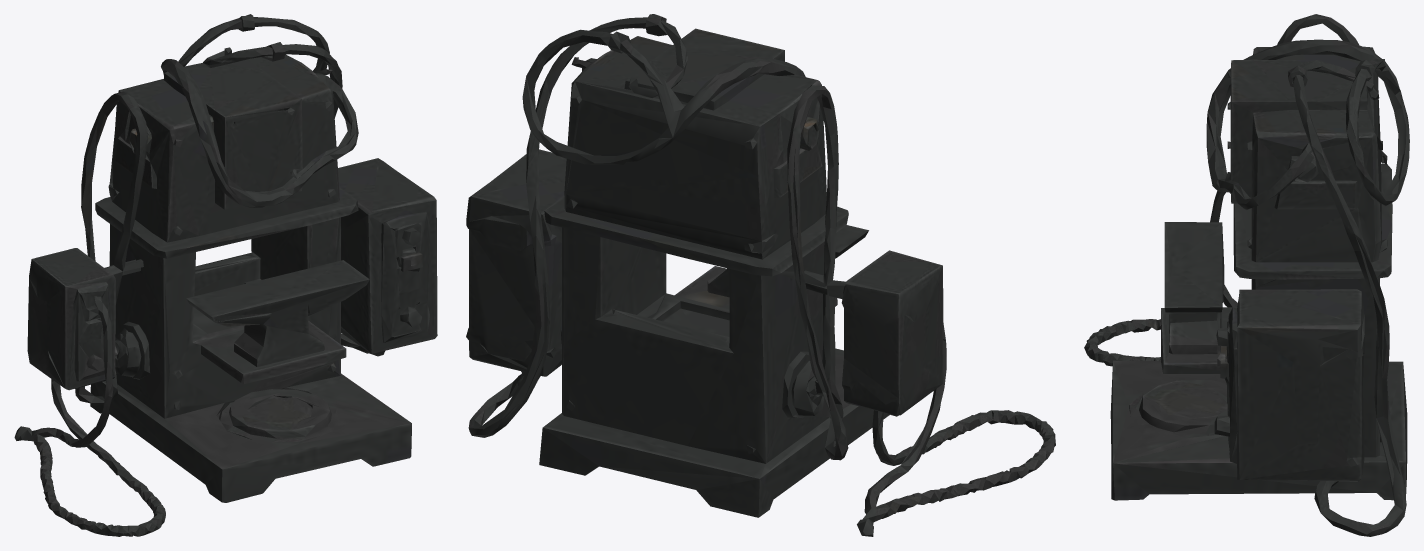
The model's file is forja.glb.
3 views of the same model, side by side, from view 1: azimuth 30°, elevation 25°; view 2: azimuth 150°, elevation 25°; view 3: azimuth 270°, elevation 25° (orthographic). The views are drawn at different scales.
Bounding box in the file's own units: 1.9 × 1.65 × 1.17.
Materials: 1 (1 with a texture image).
